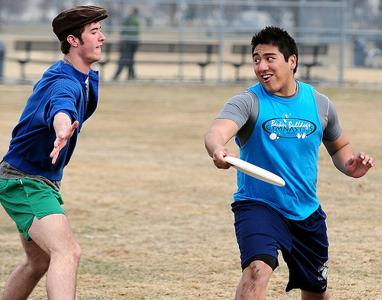person: (205, 25, 373, 300)
